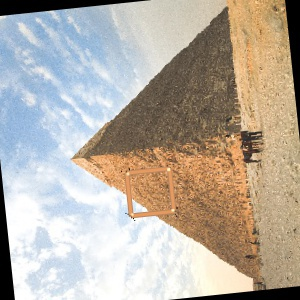square: (121, 165, 179, 220)
